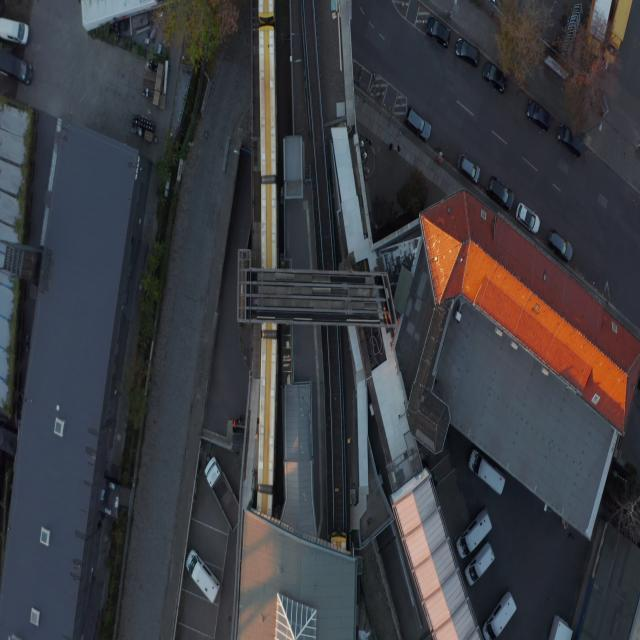vehicle: (204, 456, 240, 532), (186, 549, 221, 604), (468, 448, 506, 494), (456, 510, 492, 558), (482, 590, 516, 640), (464, 542, 496, 586), (0, 49, 33, 86), (488, 176, 514, 210), (406, 108, 432, 142), (558, 124, 584, 158), (0, 16, 29, 46), (426, 15, 451, 48), (526, 100, 552, 131), (548, 230, 573, 262), (482, 61, 507, 92), (516, 202, 540, 234), (455, 37, 479, 67), (548, 614, 574, 640), (458, 154, 480, 184), (233, 420, 239, 428), (238, 416, 244, 422)
